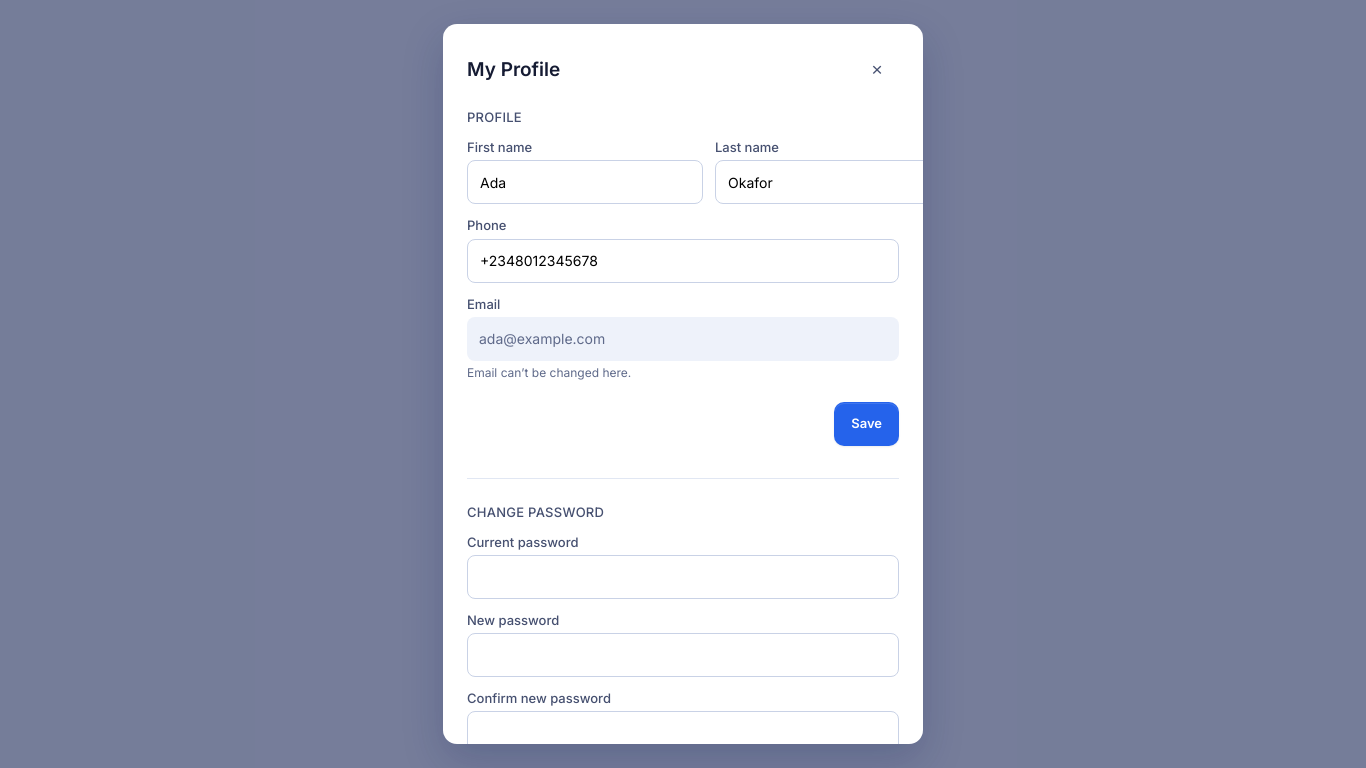
Test: <MyAccountModal> › a successful password change shows the "other sessions" message, pluralized correctly
Expected: the field showing "Ada" is shown, [467, 160, 703, 204]
Type "the original strong passphrase" into the password field labelled "Current password". click: (683, 577)
box: [467, 555, 899, 599]
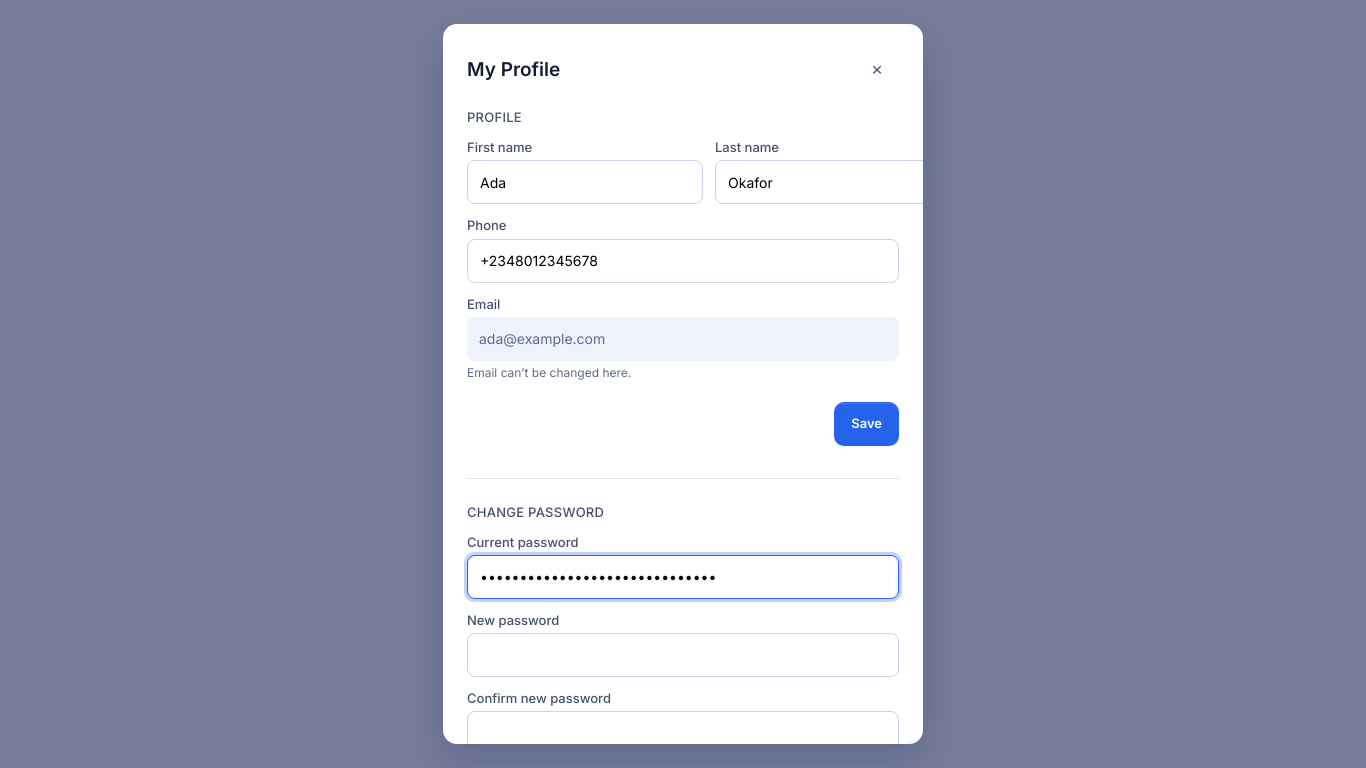
Type "a brand new strong passphrase" into the password field labelled "New password". click: (683, 655)
box: [467, 633, 899, 677]
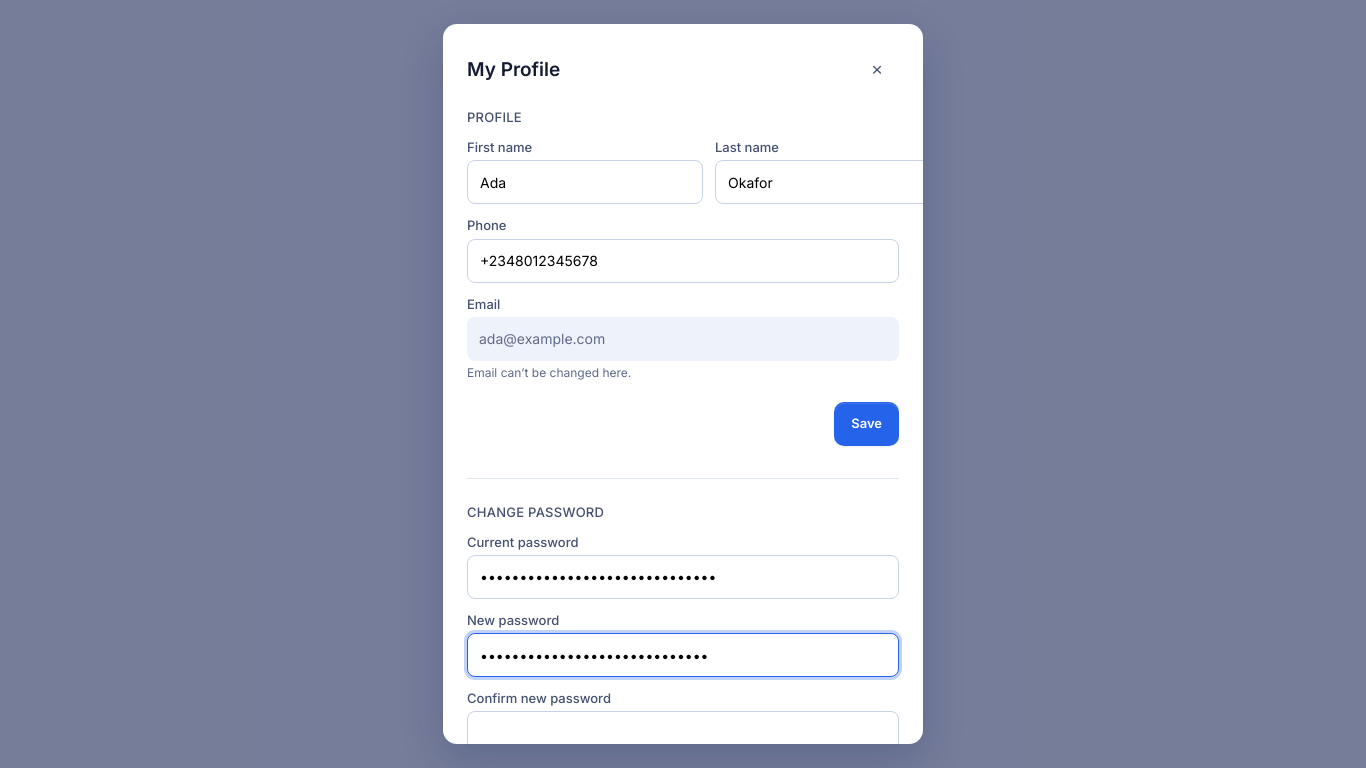
Type "a brand new strong passphrase" into the password field labelled "Confirm new password". click: (683, 733)
box: [467, 711, 899, 755]
(page scrolled)
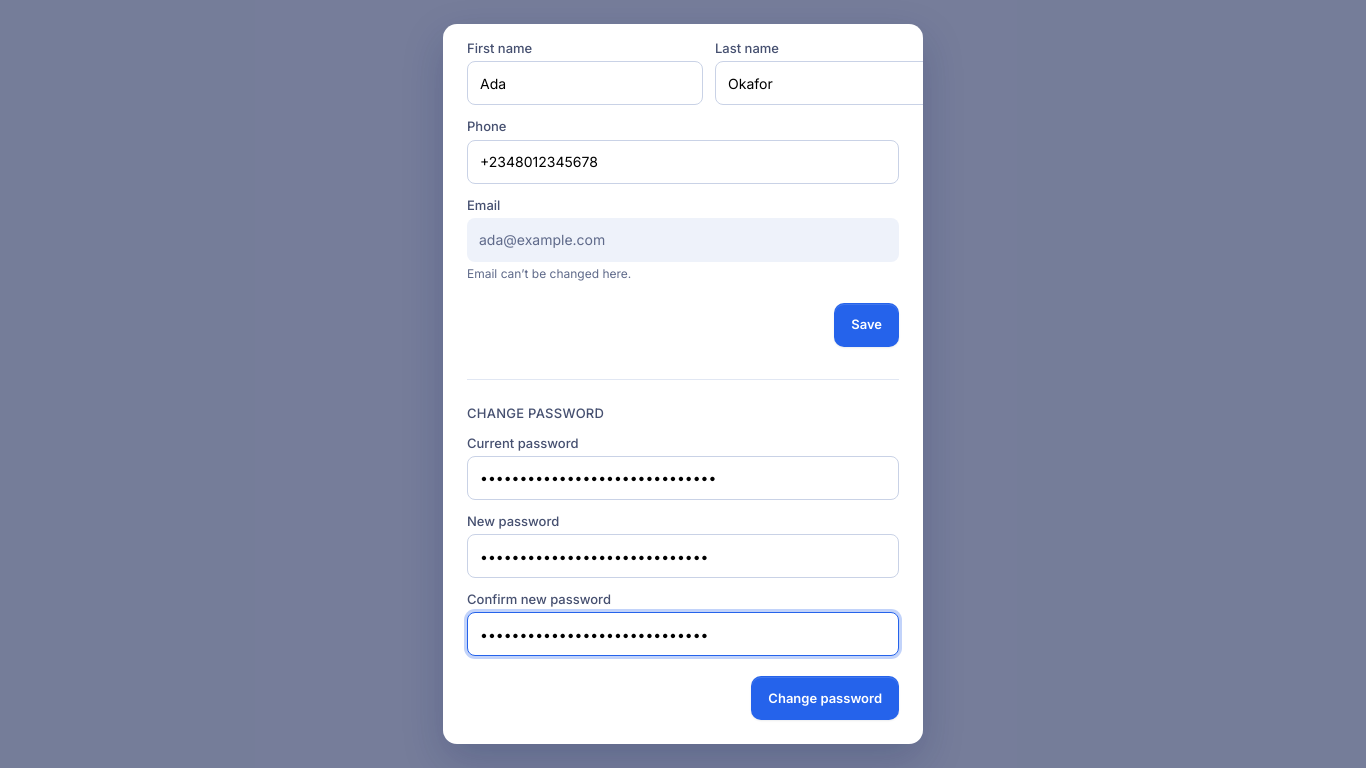
Click the button "Change password". click: (825, 698)
box: [751, 676, 899, 720]
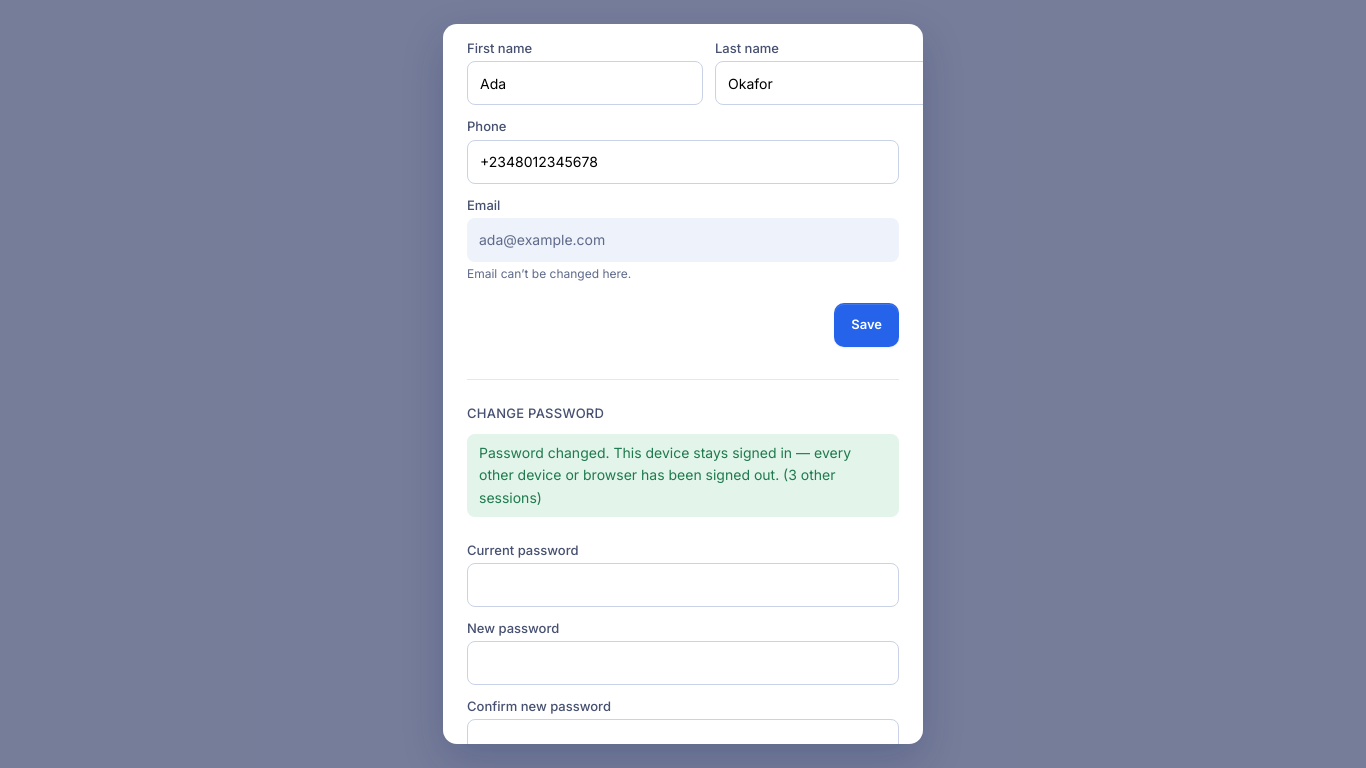
Expected: the message shows "(3 other sessions)", [479, 444, 851, 506]
